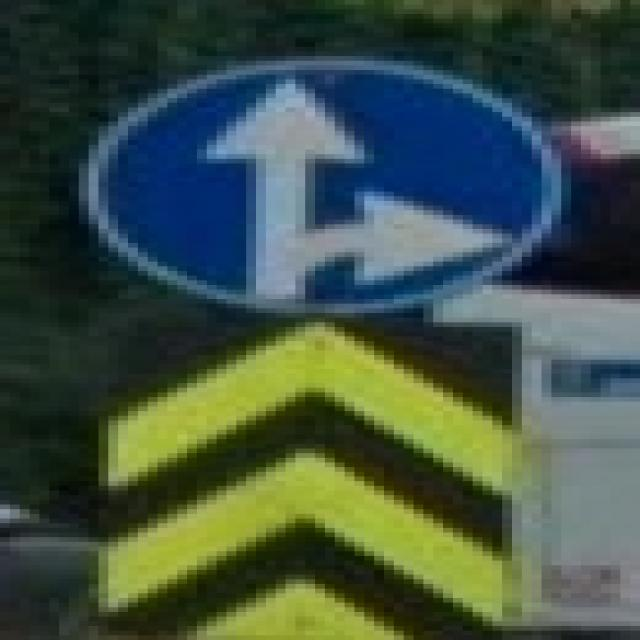Straight or Right: (85, 62, 548, 309)
